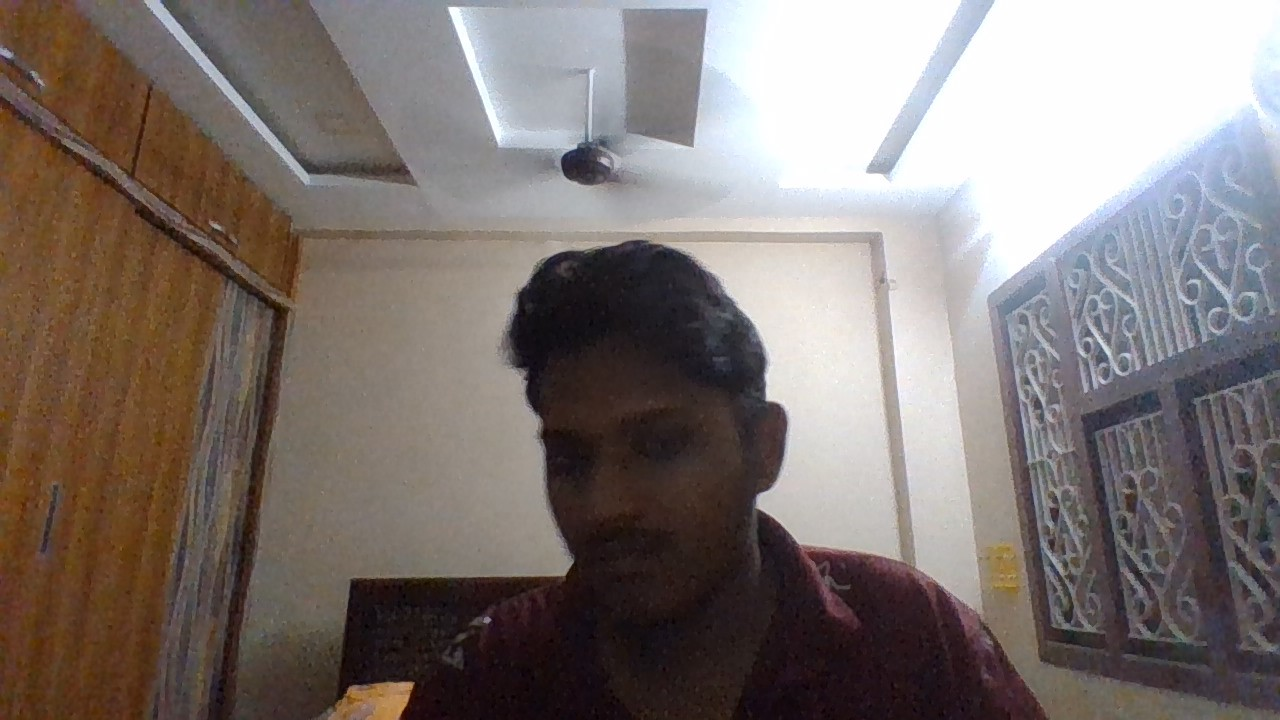person: (422, 132, 1044, 720)
